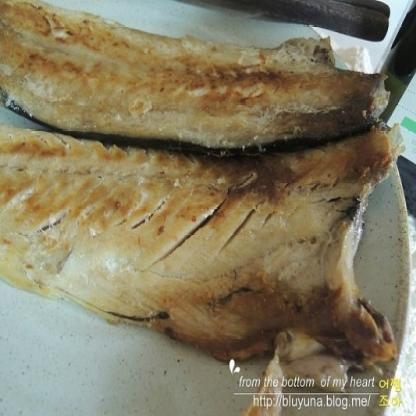Peixe: (0, 24, 416, 395)
